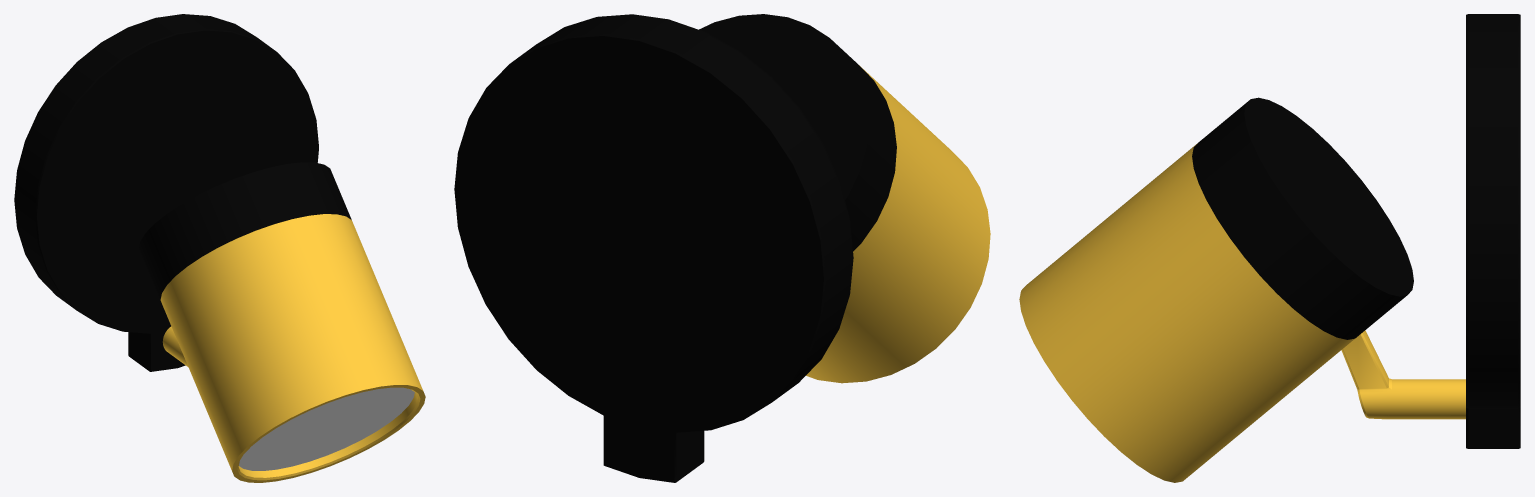
File: wall_lamp.fbx
3 renders of one model, left to right at view 1: azimuth 30°, elevation 25°; view 2: azimuth 150°, elevation 25°; view 3: azimuth 270°, elevation 25°, orthographic. The views are drawn at different scales.
Visible parts, largest first — view 1: Cylinder.001, Cylinder.002; view 2: Cylinder.002, Cylinder.001; view 3: Cylinder.001, Cylinder.002.
Part boxes in pixels (x1,y1,x2,y2): Cylinder.001: [139, 162, 425, 482]; Cylinder.002: [14, 14, 318, 371]; Cylinder.002: [454, 14, 853, 482]; Cylinder.001: [699, 14, 990, 383]; Cylinder.001: [1019, 97, 1413, 482]; Cylinder.002: [1341, 14, 1520, 448].
Bounding box in the file's own units: 335 × 407 × 425.
